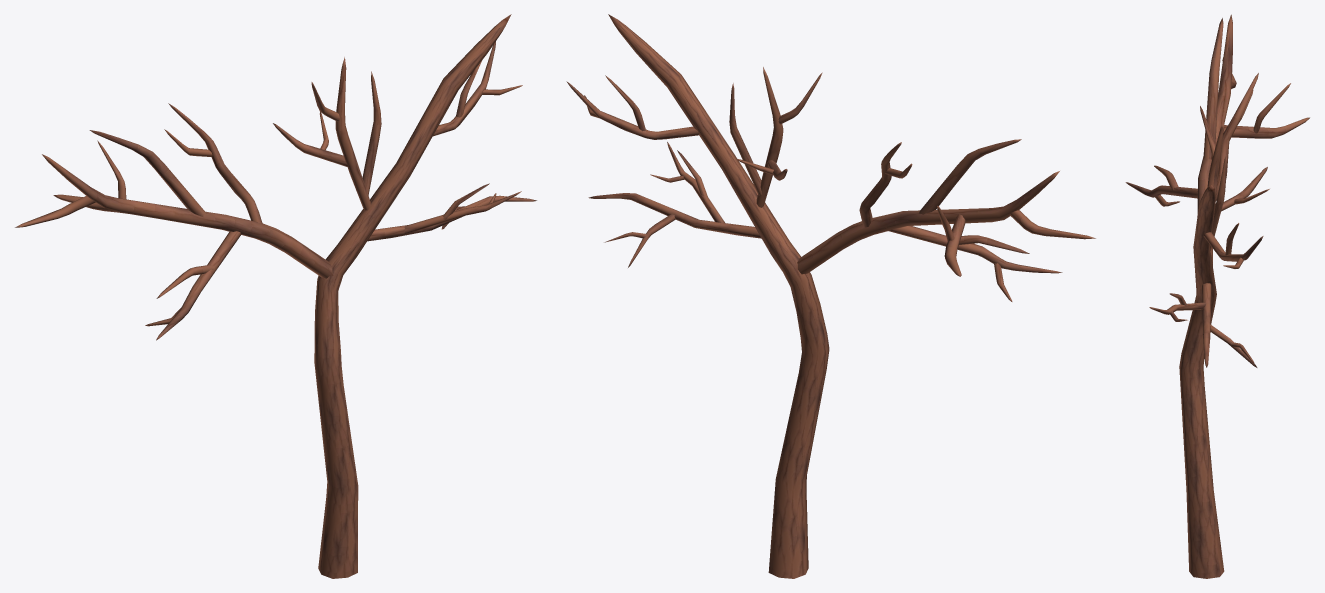
File: dead_5.glb
3 renders of one model, left to right at view 1: azimuth 30°, elevation 25°; view 2: azimuth 150°, elevation 25°; view 3: azimuth 270°, elevation 25°, orthographic. The views are drawn at different scales.
Visible parts, largest first — view 1: DeadTree_4; view 2: DeadTree_4; view 3: DeadTree_4.
Part boxes in pixels (x1,y1,x2,y2): DeadTree_4: (15, 14, 536, 578); DeadTree_4: (566, 14, 1095, 578); DeadTree_4: (1125, 14, 1309, 578).
Size of the model in its own units: 4.85 by 4.61 by 1.67.
Materials: 1 (1 with a texture image).
